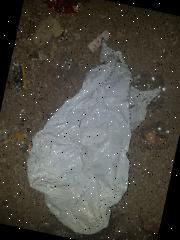general: (86, 26, 112, 56), (8, 60, 30, 92)
plastic: (13, 31, 171, 240)
